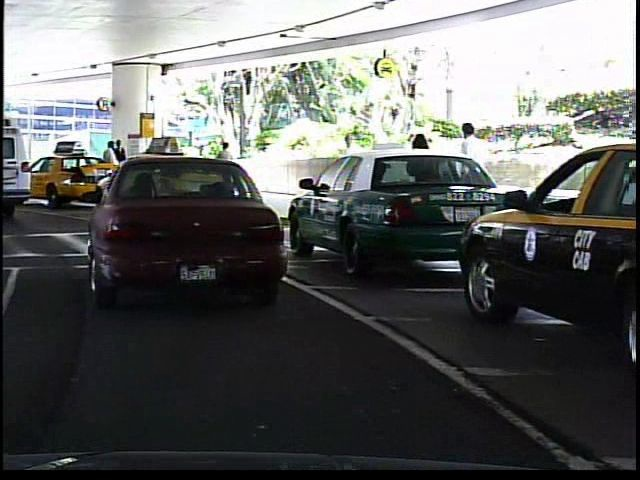person: (450, 115, 497, 230), (403, 124, 441, 230), (333, 125, 362, 205), (213, 137, 236, 191), (99, 140, 118, 193), (113, 136, 128, 193)
